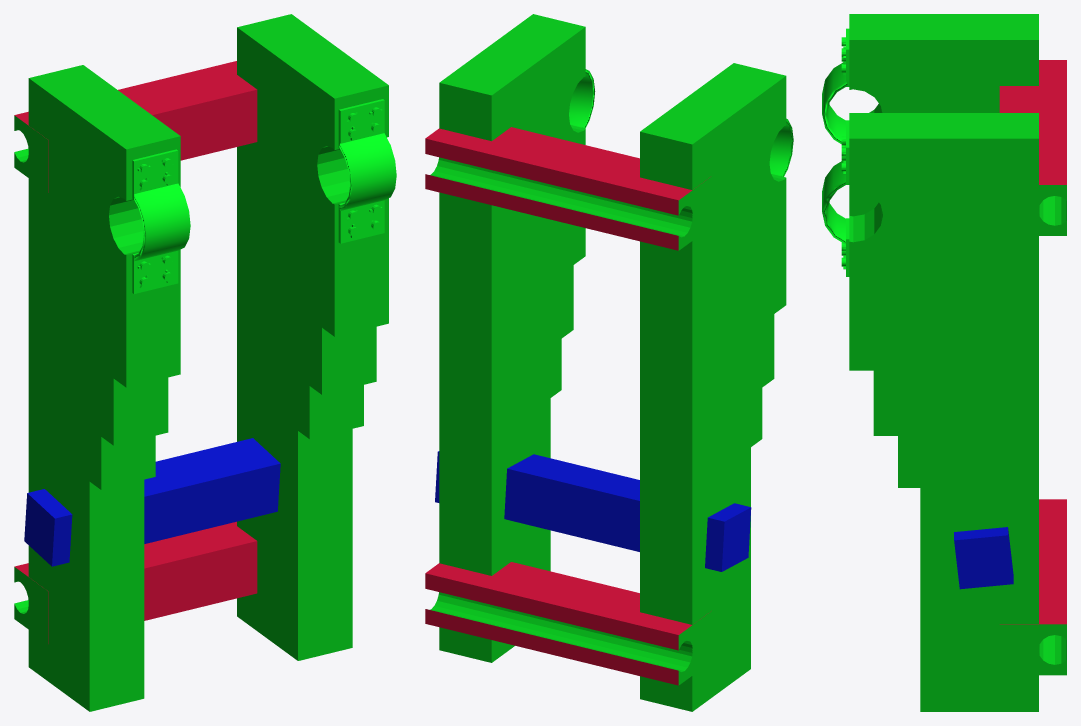
File: Gun10.fbx
3 views of the same model, side by side, from view 1: azimuth 30°, elevation 25°; view 2: azimuth 150°, elevation 25°; view 3: azimuth 270°, elevation 25° (orthographic). The views are drawn at different scales.
Parts seen in each view (by area): view 1: Base; view 2: Base; view 3: Base.
Boxes of the visible parts, x1,y1,x2,y2 form: Base: (14,14,396,711); Base: (425,14,793,711); Base: (822,14,1066,711).
Bounding box in the file's own units: 639 × 1207 × 467.
